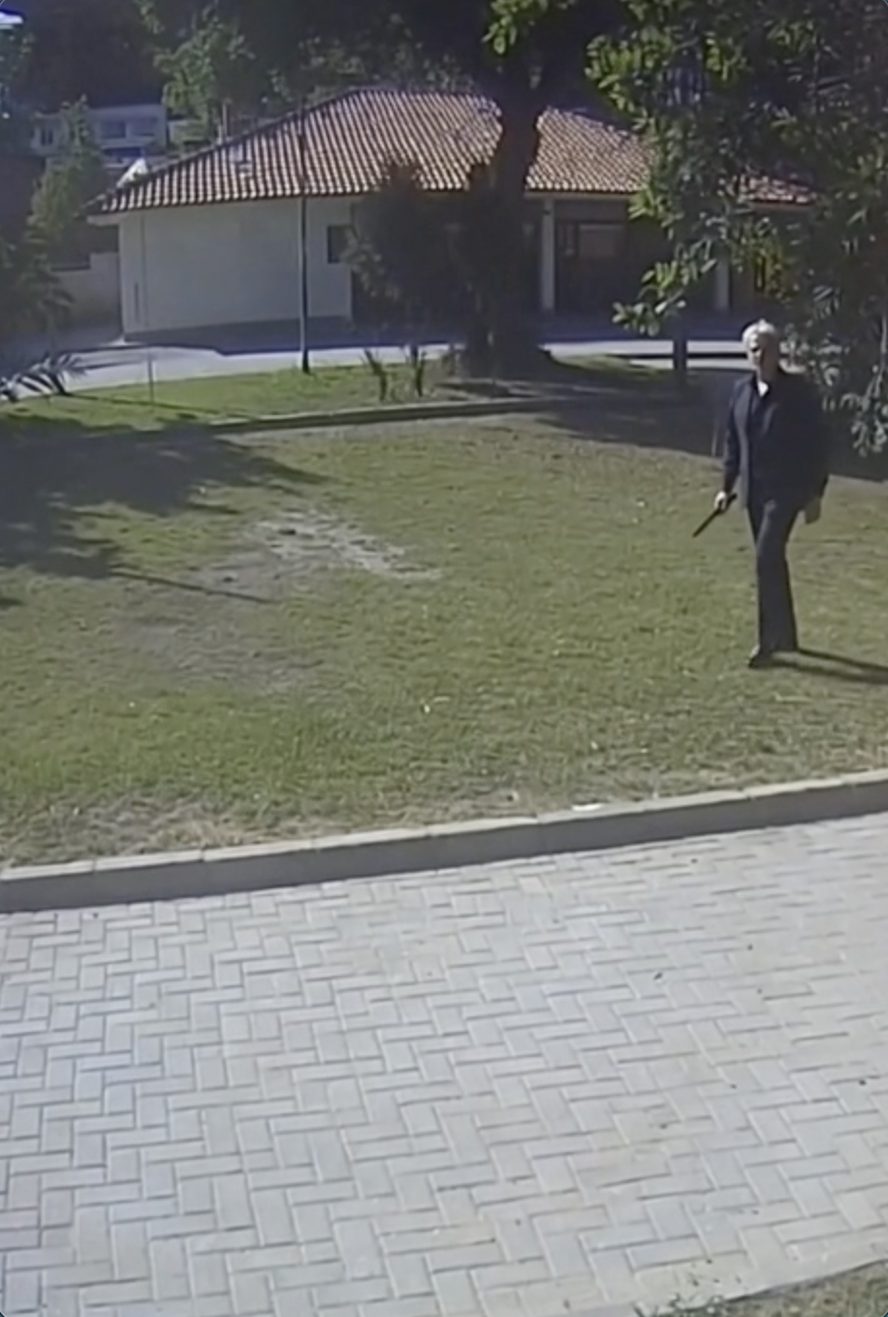Heavy Gun: (709, 321, 849, 671)
Knife: (689, 472, 742, 540)
